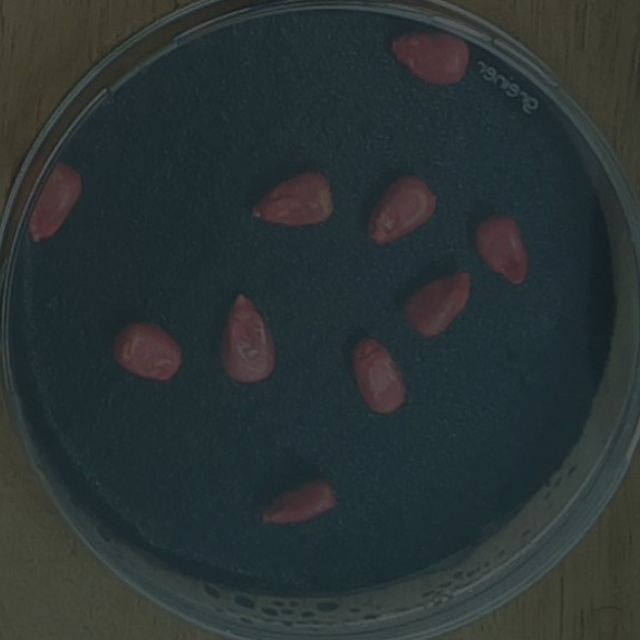Zea mays: (211, 282, 282, 390), (382, 15, 477, 92), (241, 161, 341, 234), (359, 167, 442, 251), (394, 263, 478, 345), (105, 309, 189, 389), (19, 155, 87, 250), (344, 326, 412, 420), (465, 203, 536, 292), (253, 466, 345, 533)
